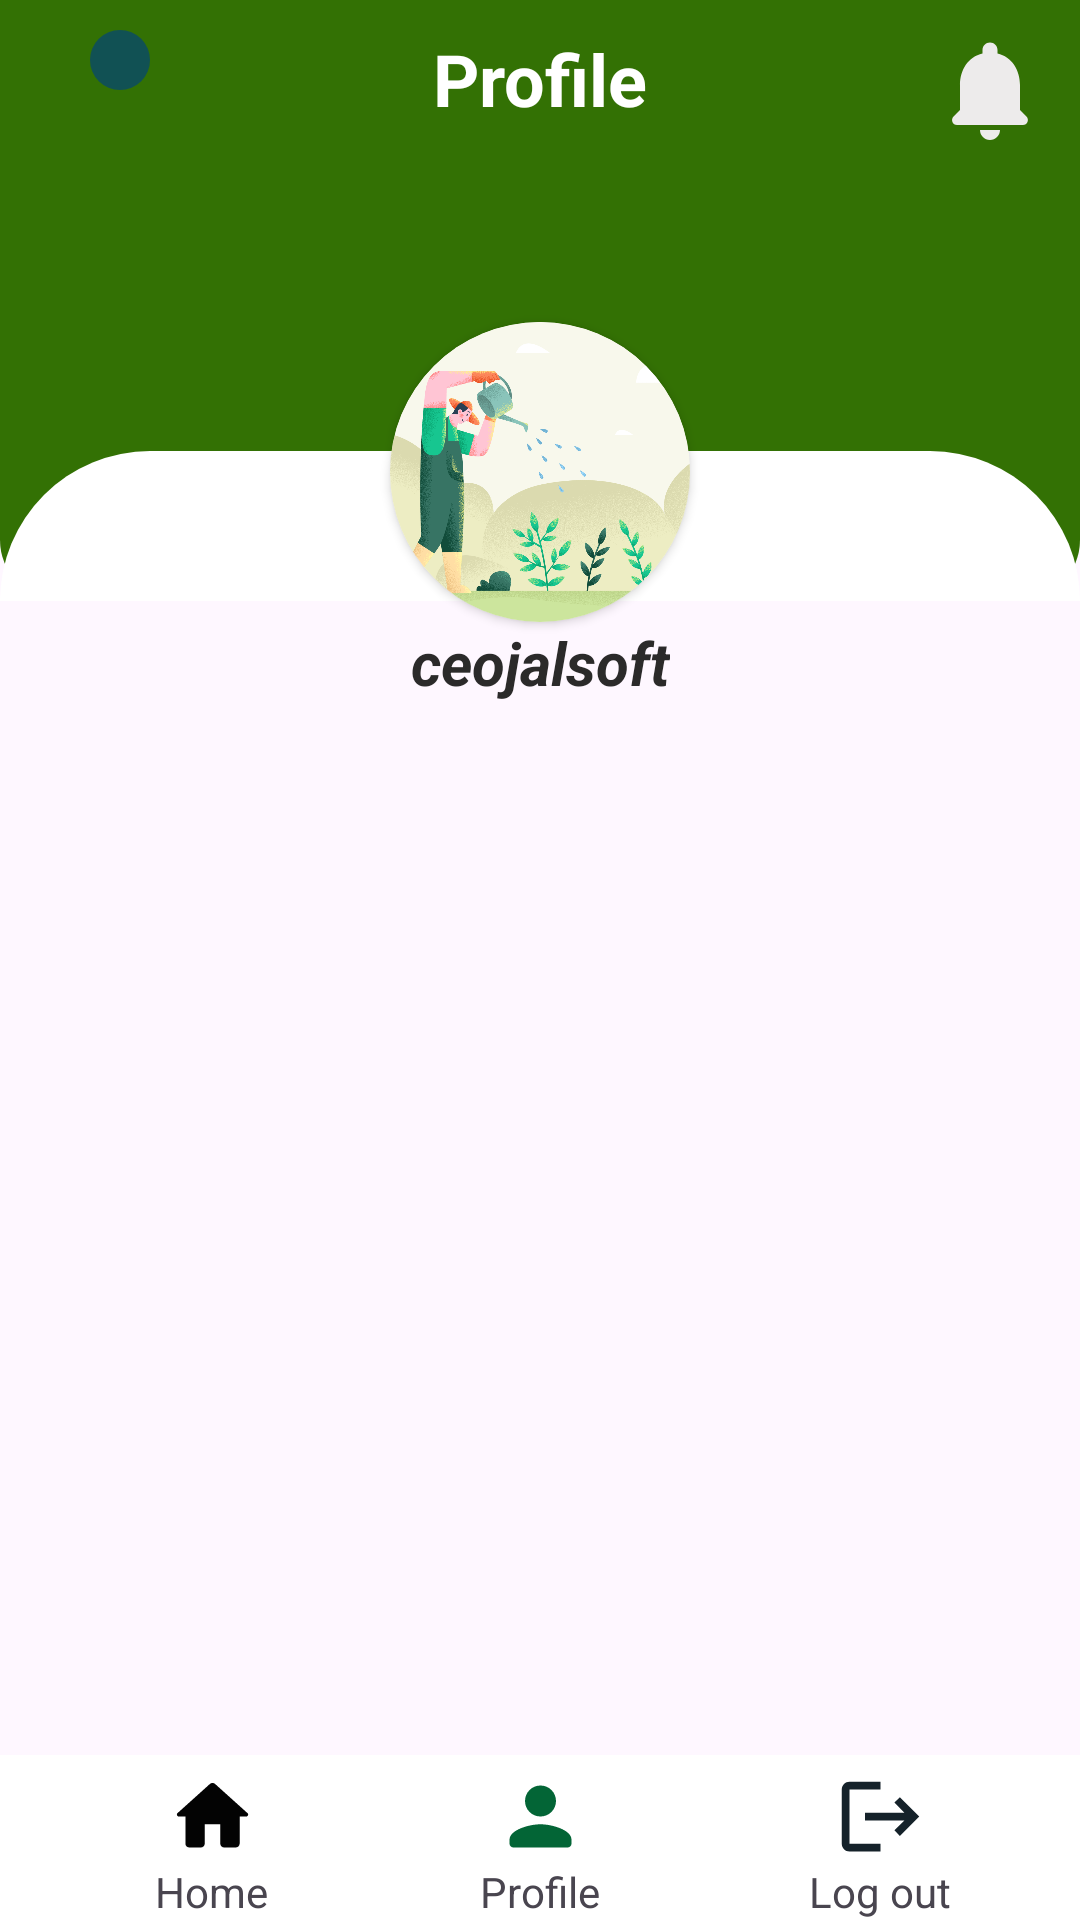

Where to tap for icons on this 1080 × 1920 app screen, as (x,y):
care trees: (540,472)
notifications: (990,91)
true person: (540,1816)
